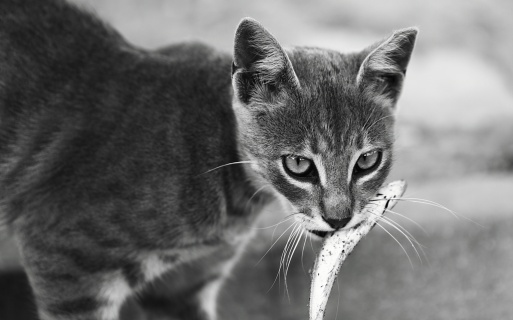Cat: (0, 0, 486, 318)
